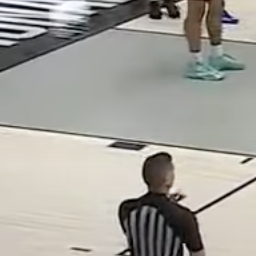block: (107, 140, 147, 151)
